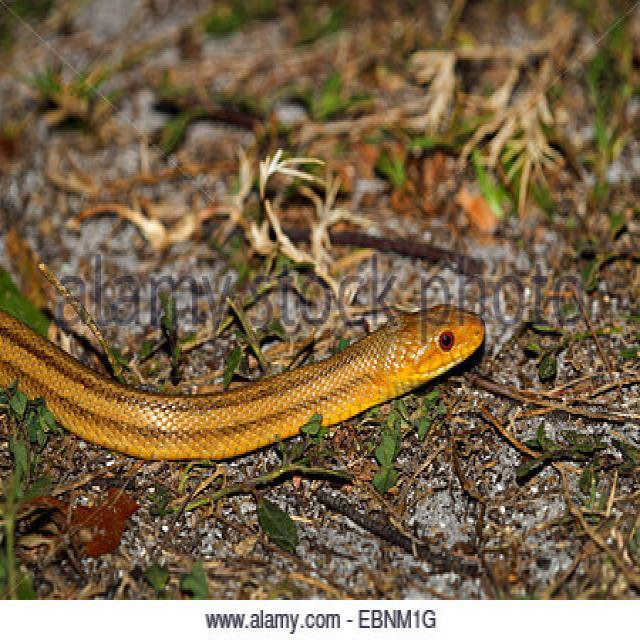Snake: (0, 262, 485, 464)
